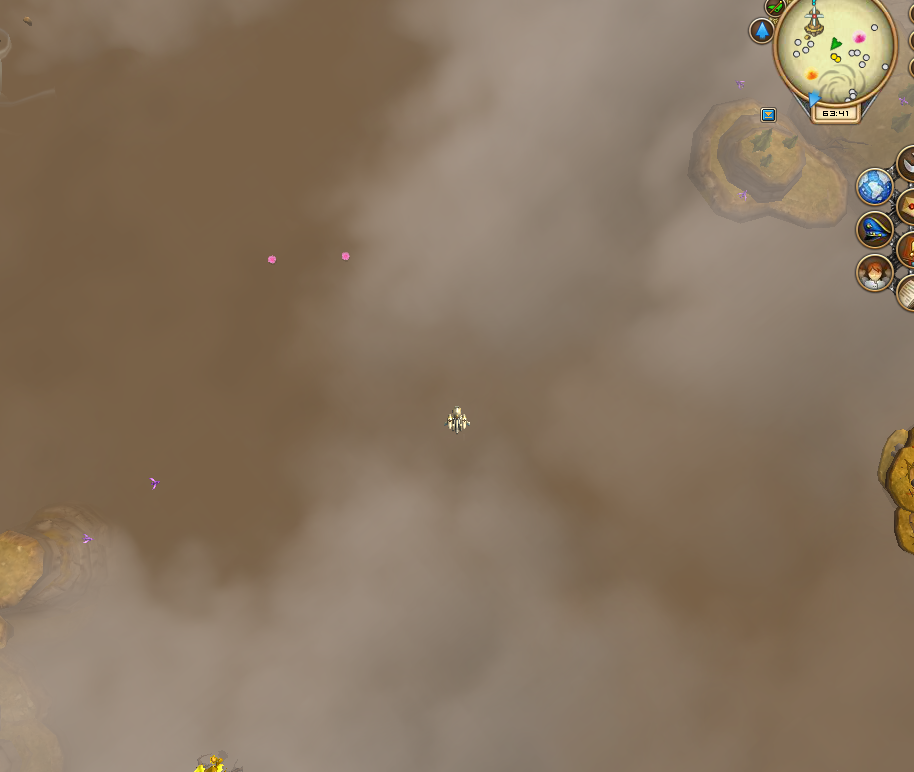dandelion-empty: (187, 745, 231, 772)
fluff: (334, 246, 354, 265), (264, 251, 277, 268)
